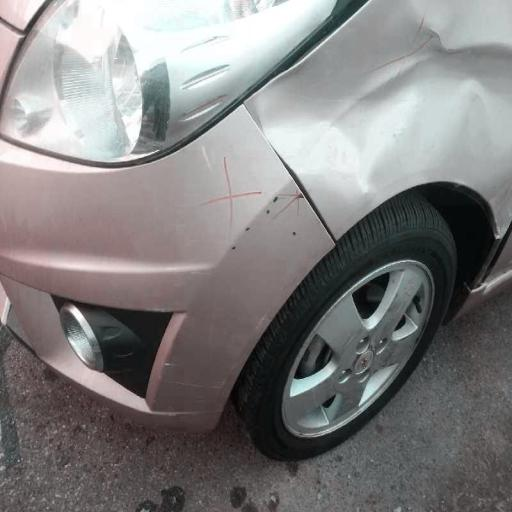dent: (186, 80, 440, 266)
